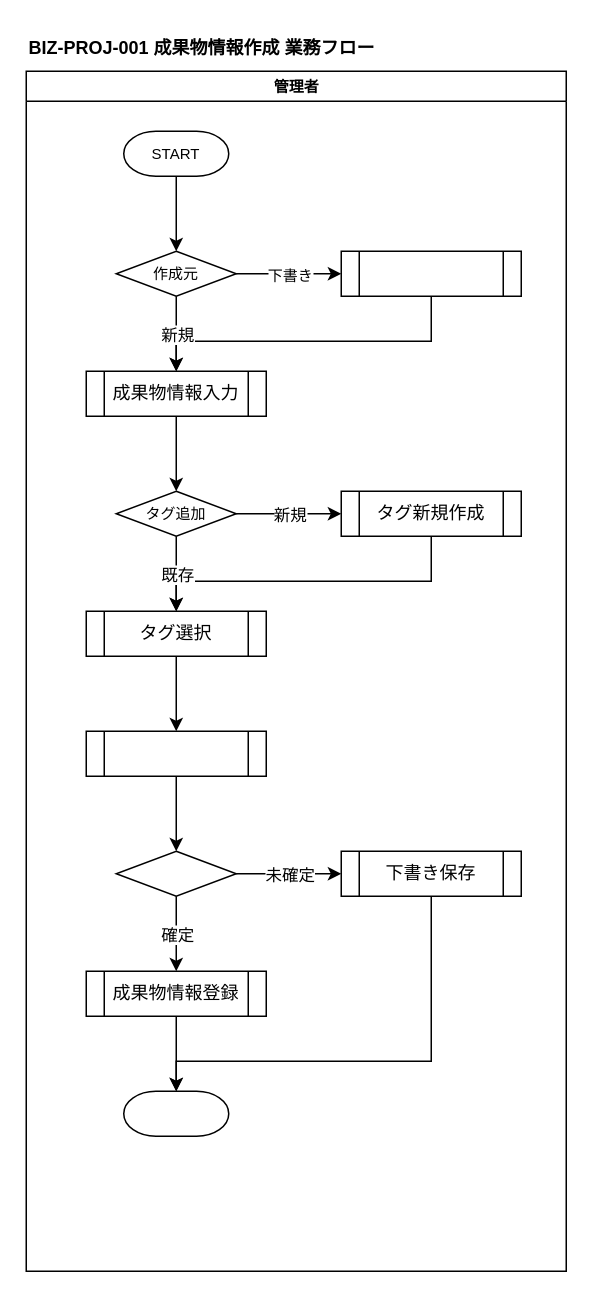
The diagram is 593 pixels wide and 1298 high, and some of its shapes have lost their labels. The shapes that lost their labels are listed below. From the top down, each one's box as (x1, y1, x2, y2) in pixels, then its label:
(340, 250, 521, 296): 下書き選択
(85, 730, 266, 776): プレビュー確認
(115, 850, 236, 896): 登録確定
(122, 1090, 229, 1136): END
